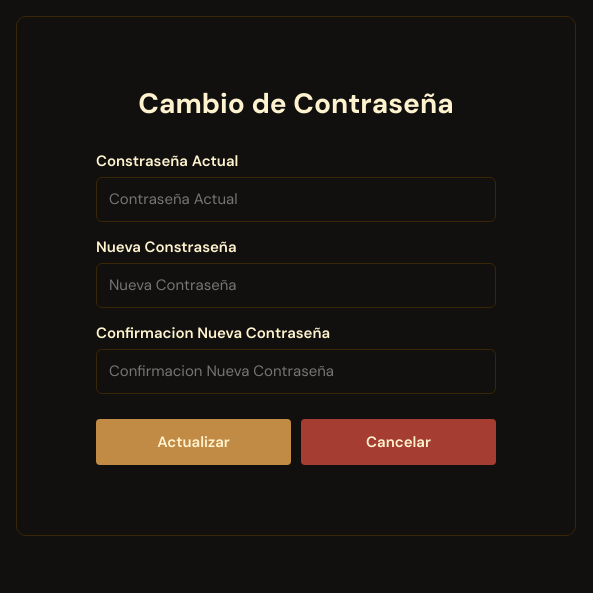
Test: Vista CambiarPsswd - handleChange y handleCambiarClave › envía el PUT correcto, muestra éxito y vuelve a /perfil
In the password field with placeholder "Contraseña Actual": (296, 199) x1=96 y1=177 x2=496 y2=222, type "vieja123"
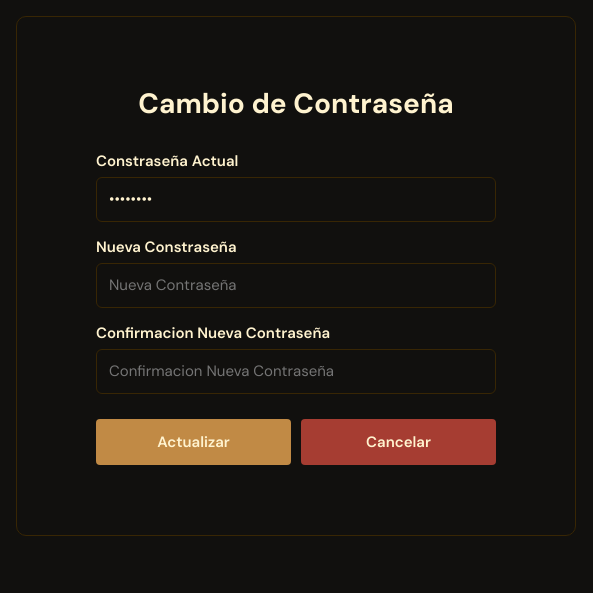
In the password field with placeholder "Nueva Contraseña": (296, 285) x1=96 y1=263 x2=496 y2=308, type "nueva1234"
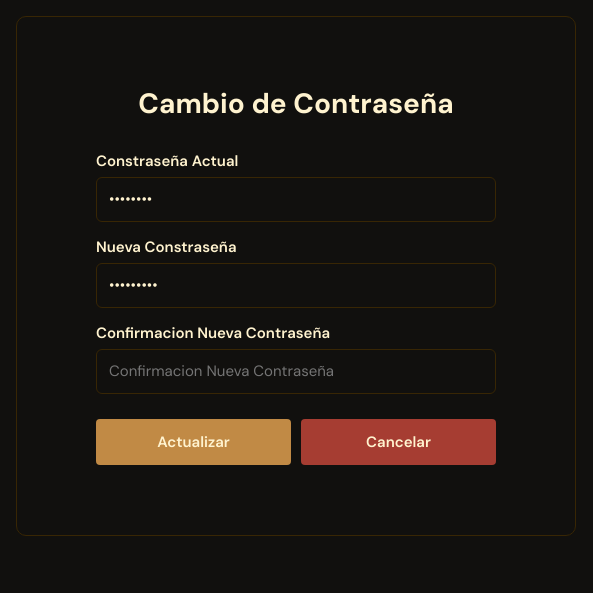
In the password field with placeholder "Confirmacion Nueva Contraseña": (296, 371) x1=96 y1=349 x2=496 y2=394, type "nueva1234"
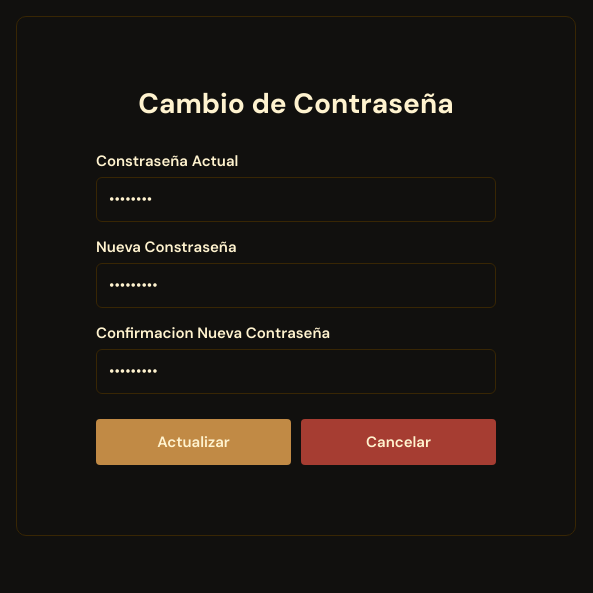
Click the button "Actualizar": (194, 442) x1=96 y1=419 x2=291 y2=465
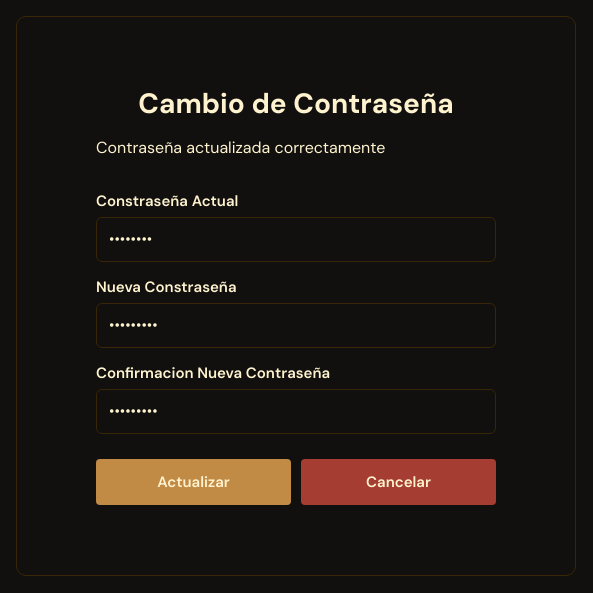
Expected: the text "Contraseña actualizada correctamente" is shown, x1=96 y1=137 x2=385 y2=158
